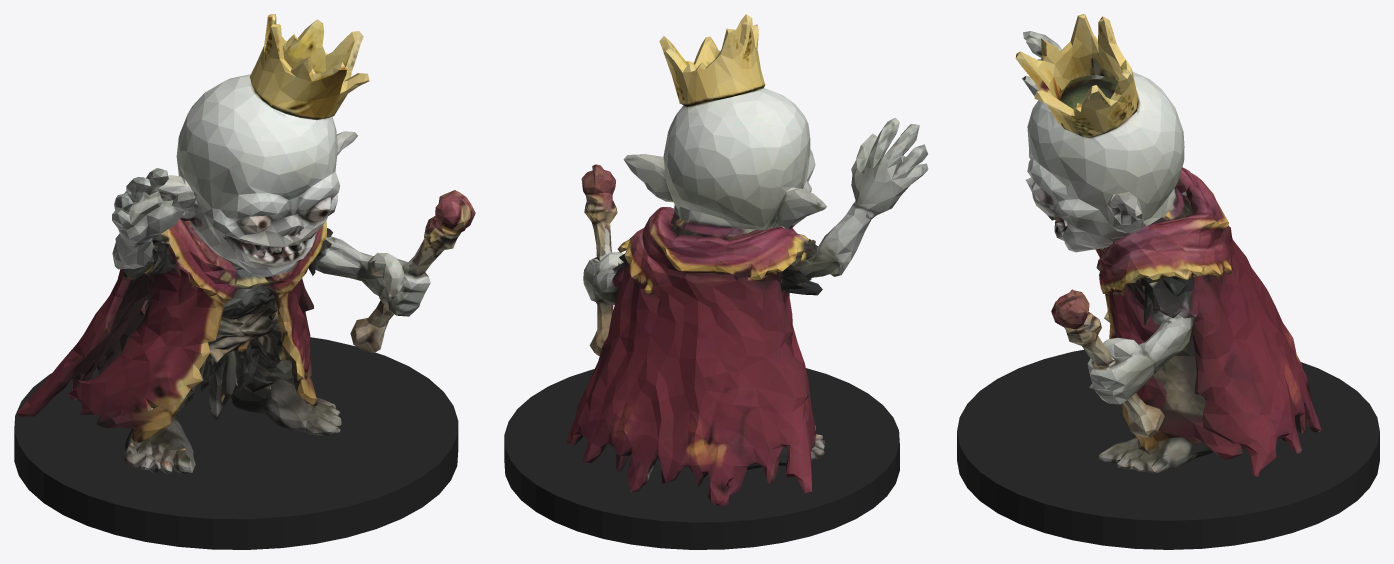
The model's file is fec-abhorrant-archregent.glb.
3 renders of one model, left to right at view 1: azimuth 30°, elevation 25°; view 2: azimuth 150°, elevation 25°; view 3: azimuth 270°, elevation 25°, orthographic. The views are drawn at different scales.
Parts seen in each view (by area): view 1: figure, base; view 2: figure, base; view 3: figure, base.
Part boxes in pixels (bbox=[...]): figure: bbox=[16, 14, 475, 473]; base: bbox=[14, 337, 458, 549]; figure: bbox=[567, 14, 928, 505]; base: bbox=[504, 368, 899, 549]; figure: bbox=[1015, 14, 1321, 476]; base: bbox=[957, 350, 1379, 549].
Size of the model in its own units: 1.57 by 1.82 by 1.57.
2 materials, 1 textured.
